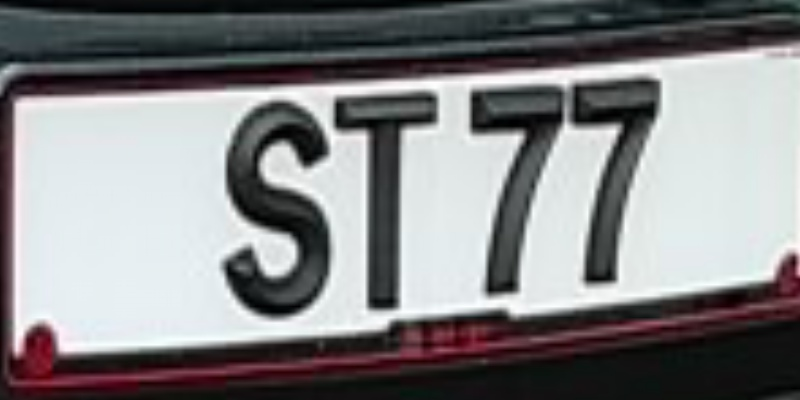7: (457, 82, 575, 298), (561, 73, 671, 288)
S: (205, 90, 341, 328)
T: (333, 86, 440, 309)
